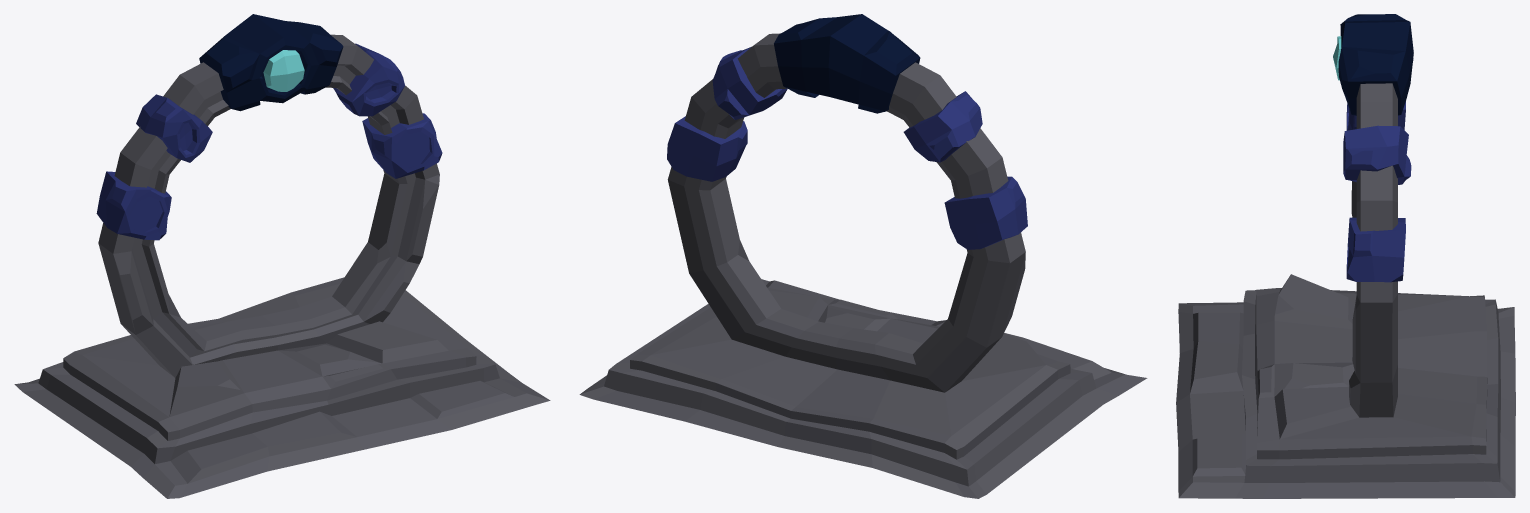
The model's file is Gate.fbx.
The picture shows the model from 3 angles, left to right: view 1: azimuth 30°, elevation 25°; view 2: azimuth 150°, elevation 25°; view 3: azimuth 270°, elevation 25°; orthographic projection. The views are drawn at different scales.
Parts seen in each view (by area): view 1: puerta, cristalOPEN, piedra4, piedra2, piedra3, piedra1, cristalOPEN.001; view 2: puerta, cristalOPEN, piedra4, piedra2, piedra3, piedra1; view 3: puerta, cristalOPEN, piedra2, piedra1.
Part boxes in pixels (left/top/right/bottom): puerta: left=14, top=34, right=550, bottom=498; cristalOPEN: left=199, top=14, right=343, bottom=111; piedra4: left=96, top=171, right=171, bottom=240; piedra2: left=362, top=113, right=442, bottom=178; piedra3: left=136, top=94, right=212, bottom=162; piedra1: left=333, top=43, right=404, bottom=116; cristalOPEN.001: left=263, top=50, right=304, bottom=91; puerta: left=579, top=33, right=1147, bottom=498; cristalOPEN: left=774, top=14, right=920, bottom=113; piedra4: left=944, top=176, right=1027, bottom=249; piedra2: left=667, top=116, right=747, bottom=181; piedra3: left=903, top=91, right=982, bottom=162; piedra1: left=712, top=46, right=787, bottom=119; puerta: left=1176, top=83, right=1515, bottom=498; cristalOPEN: left=1338, top=14, right=1413, bottom=115; piedra2: left=1346, top=217, right=1405, bottom=282; piedra1: left=1343, top=125, right=1411, bottom=184.
Size of the model in its own units: 1163 by 1044 by 832.
